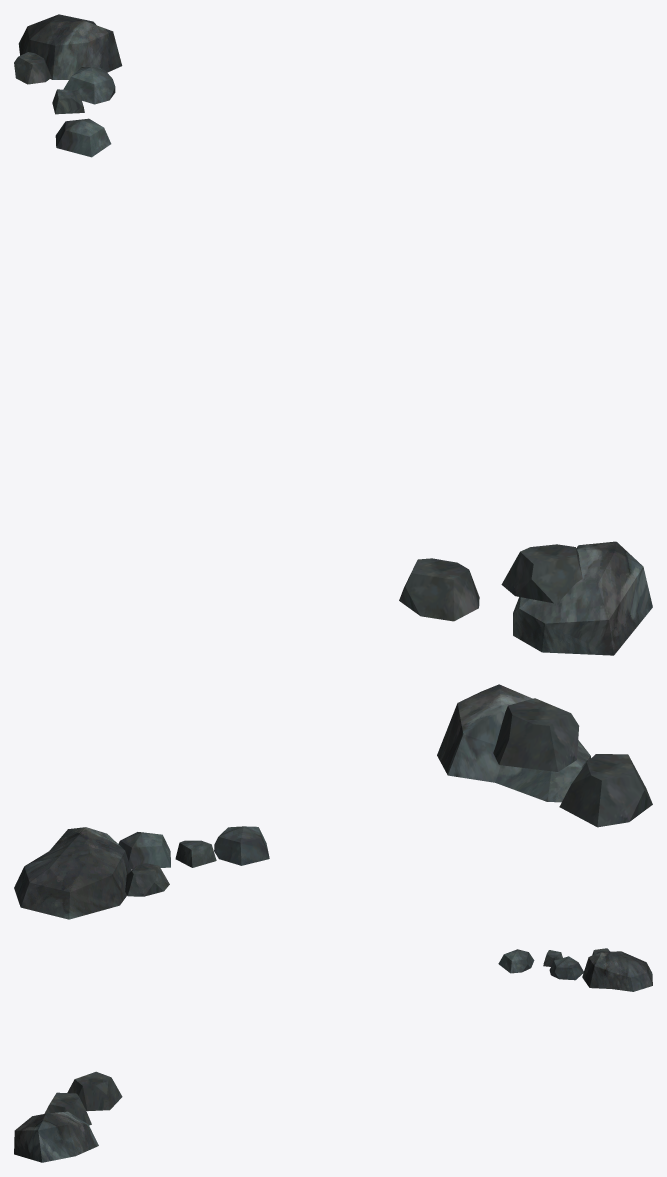
File: object_rubble28.fbx
3 renders of one model, top to bottom at view 1: azimuth 30°, elevation 25°; view 2: azimuth 150°, elevation 25°; view 3: azimuth 270°, elevation 25°, orthographic. The views are drawn at different scales.
Parts seen in each view (by area): view 1: obj0.101; view 2: obj0.101; view 3: obj0.101.
Boxes of the visible parts, x1=… form: obj0.101: x1=14, y1=14, x2=652, y2=655; obj0.101: x1=14, y1=684, x2=652, y2=919; obj0.101: x1=14, y1=948, x2=652, y2=1162.
Bounding box in the file's own units: 1.99 × 2.69 × 8.41.
